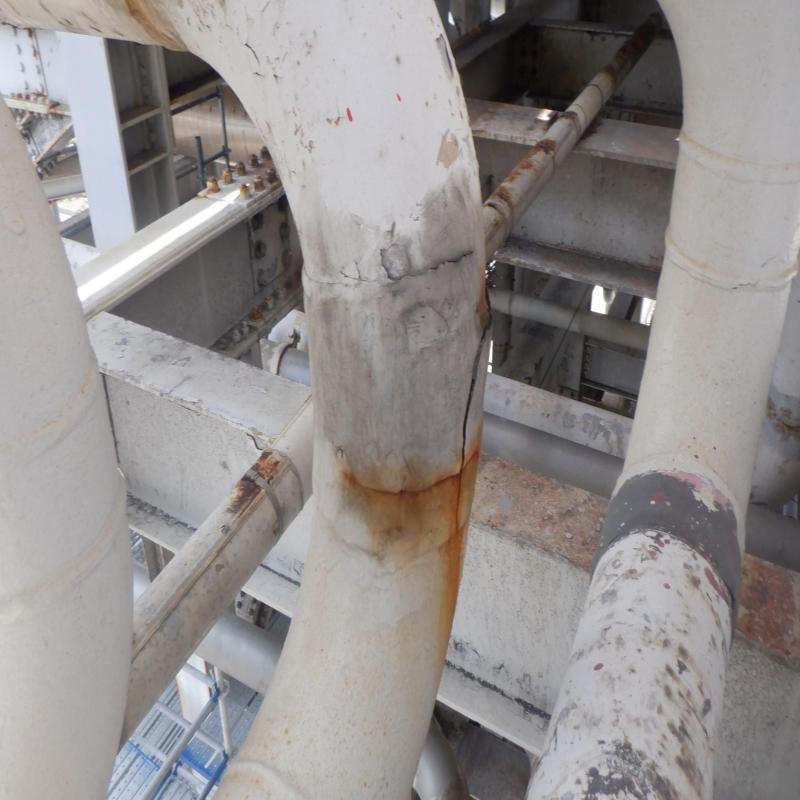Fracture: (461, 347, 480, 487), (405, 247, 486, 278)
